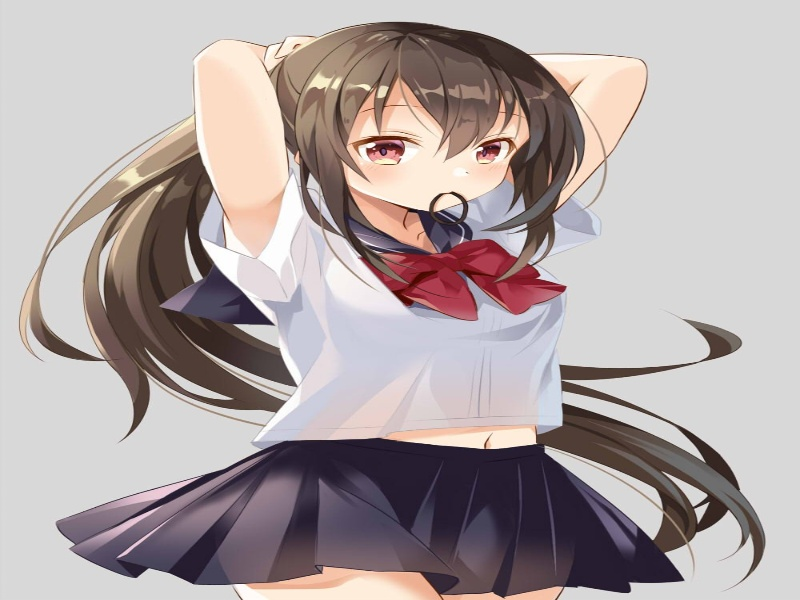dress: (32, 429, 724, 596)
person: (251, 18, 568, 235)
